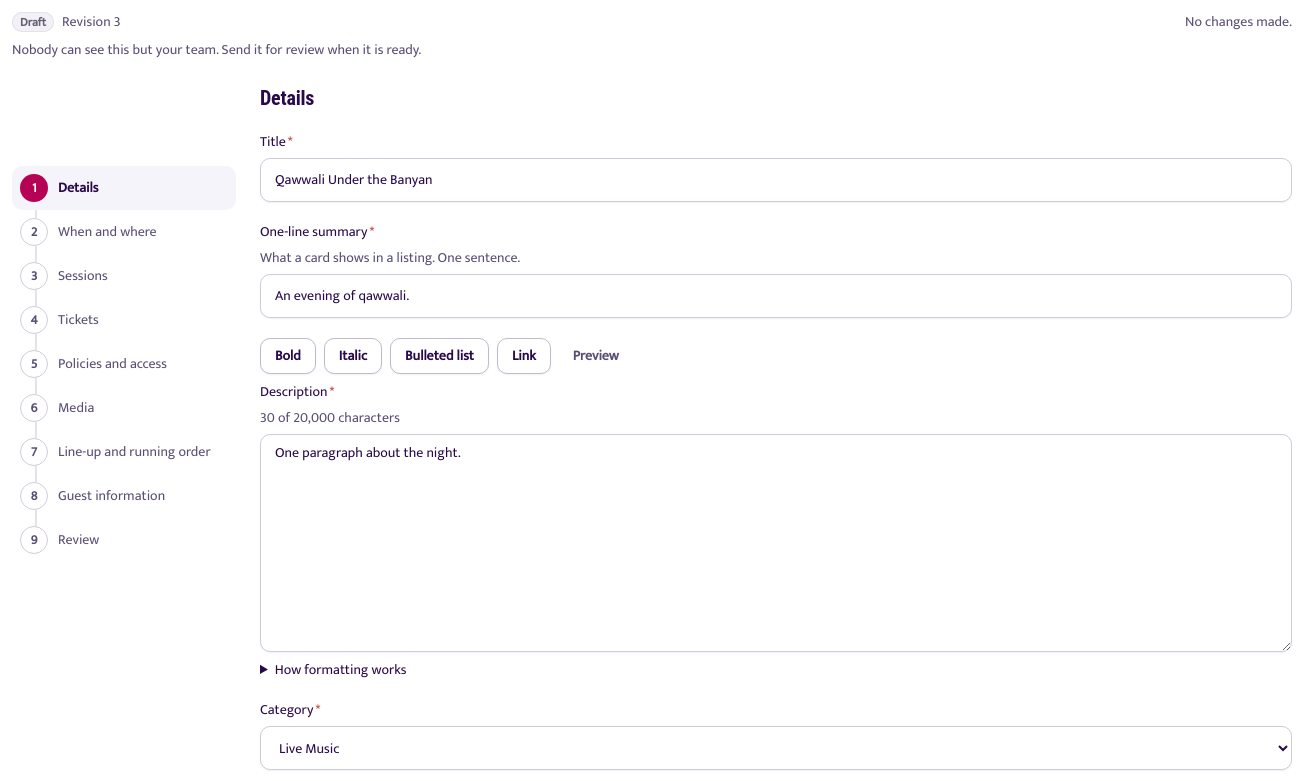
Scenario: what the editor refuses to send › counts the problems rather than saying "some"
Clear the field labelled "Title*": (776, 180) 260,158 -> 1292,202
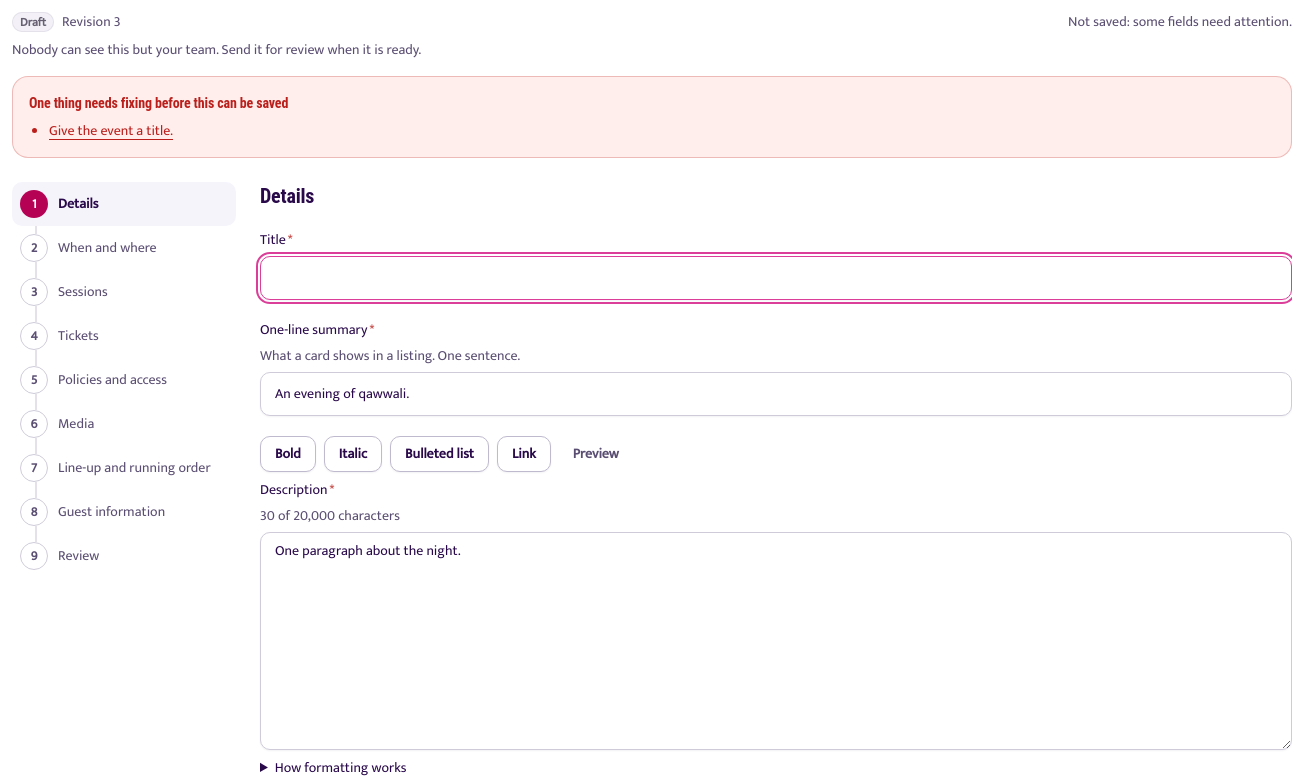
Clear the field labelled "One-line summary*": (776, 394) 260,372 -> 1292,416
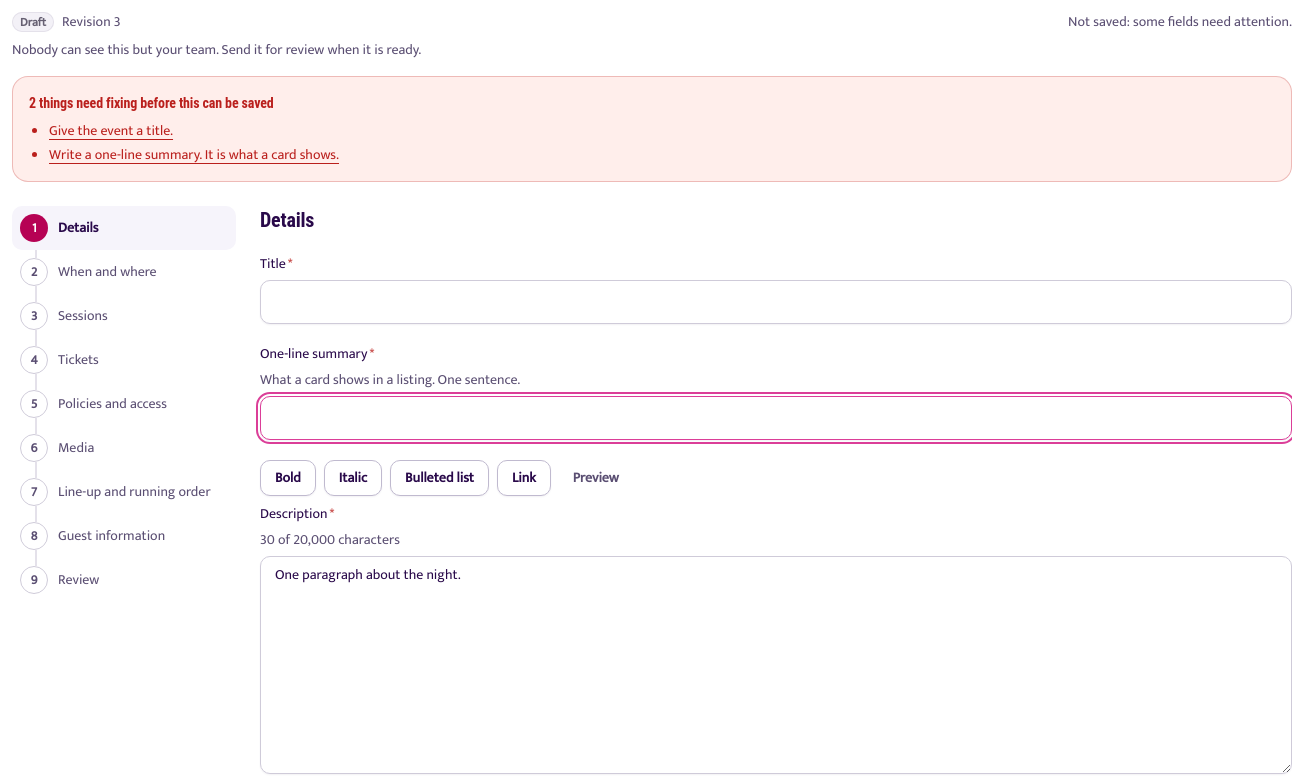
Check: the element with test id "validation-summary" shows "2 things need fixing", box 29,95 -> 274,111
